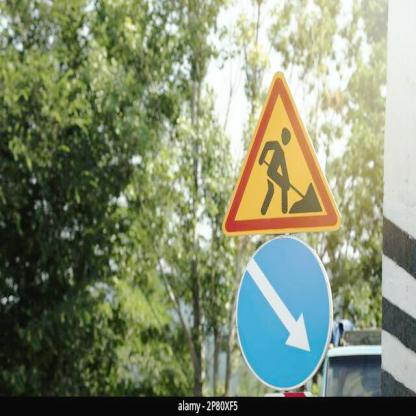Keep right: (233, 234, 337, 390)
